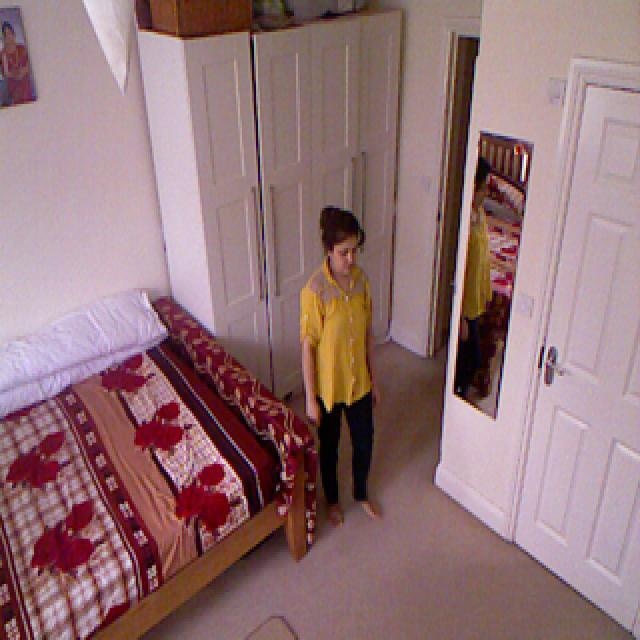standing: (294, 222, 381, 490)
